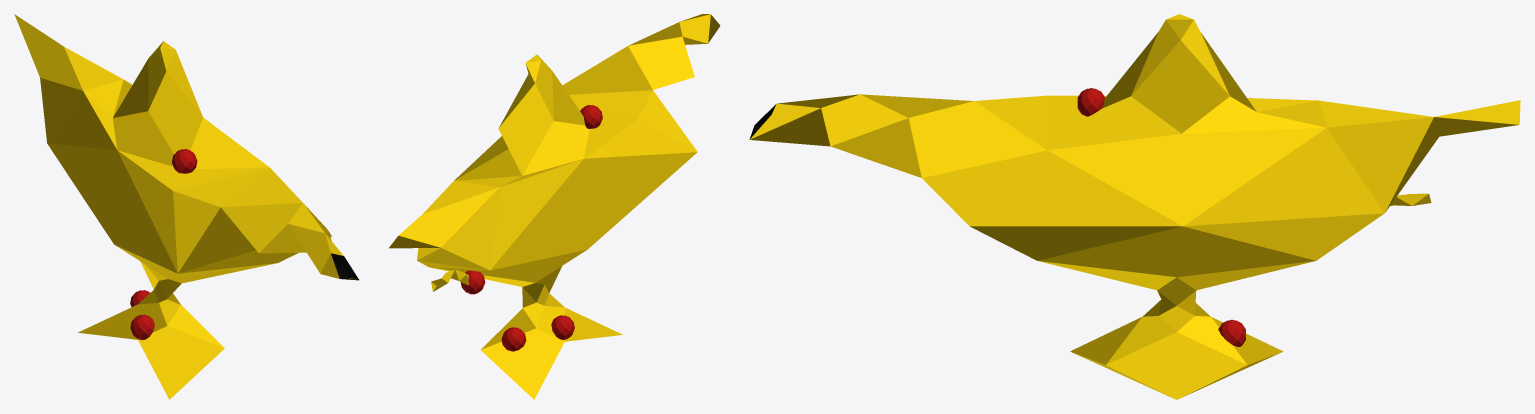
The model's file is Lamp3.glb.
3 renders of one model, left to right at view 1: azimuth 30°, elevation 25°; view 2: azimuth 150°, elevation 25°; view 3: azimuth 270°, elevation 25°, orthographic. The views are drawn at different scales.
Visible parts, largest first — view 1: Lamp.003; view 2: Lamp.003; view 3: Lamp.003.
Part boxes in pixels (x1,y1,x2,y2): Lamp.003: (14,14,358,399); Lamp.003: (389,14,720,399); Lamp.003: (749,14,1520,399).
Size of the model in its own units: 0.2115 by 0.4049 by 0.7884.
Materials: 1 (1 with a texture image).
